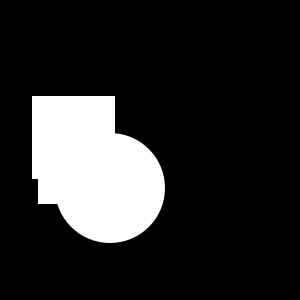circle: (32, 96, 115, 179), (38, 131, 111, 204)
rectangle: (55, 133, 165, 243)
